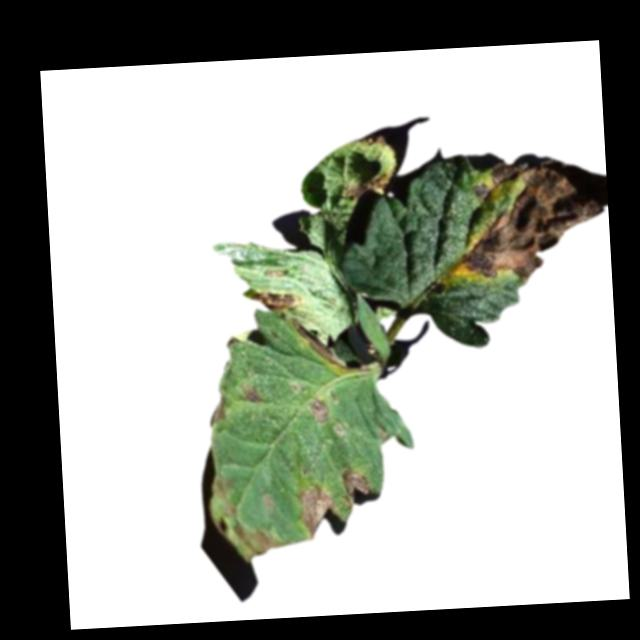Early_blight: (445, 158, 611, 283), (292, 318, 343, 368), (296, 483, 338, 541), (341, 169, 394, 199), (247, 287, 303, 312), (342, 466, 374, 507), (307, 398, 331, 423), (208, 393, 226, 426), (242, 385, 261, 402)
